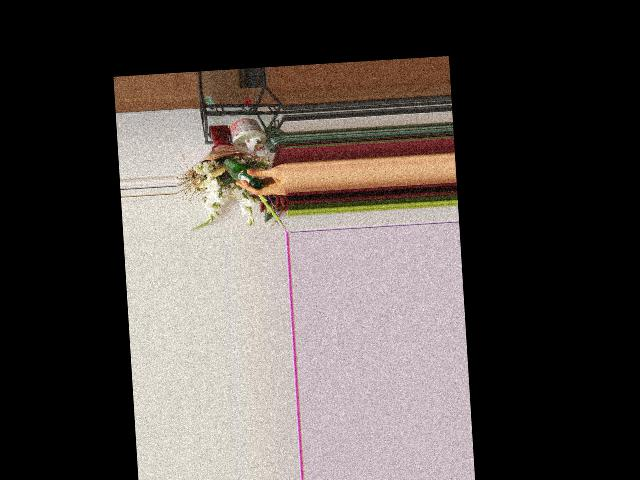beer: (223, 155, 264, 191)
